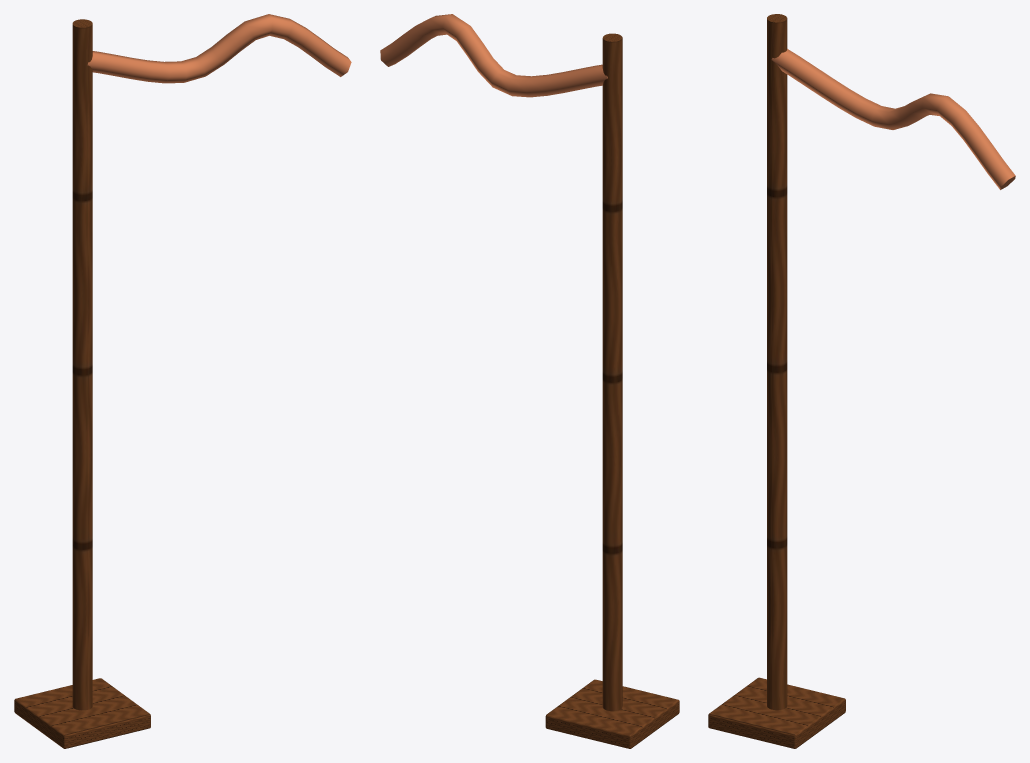
File: prehistoric-expedition-sites-wind-direction-ribbon-274f515c__26121.glb
3 views of the same model, side by side, from view 1: azimuth 30°, elevation 25°; view 2: azimuth 150°, elevation 25°; view 3: azimuth 330°, elevation 25° (orthographic). The views are drawn at different scales.
Parts seen in each view (by area): view 1: wind-direction-ribbon; view 2: wind-direction-ribbon; view 3: wind-direction-ribbon.
Boxes of the visible parts, left/top/right/bottom form: wind-direction-ribbon: left=14, top=14, right=351, bottom=748; wind-direction-ribbon: left=380, top=14, right=679, bottom=748; wind-direction-ribbon: left=708, top=14, right=1015, bottom=748.
Size of the model in its own units: 0.841 by 1.9 by 0.25.
Materials: 2 (1 with a texture image).
